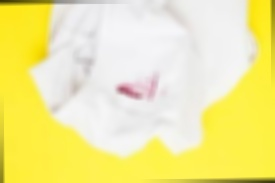lipstick: (112, 72, 161, 102)
